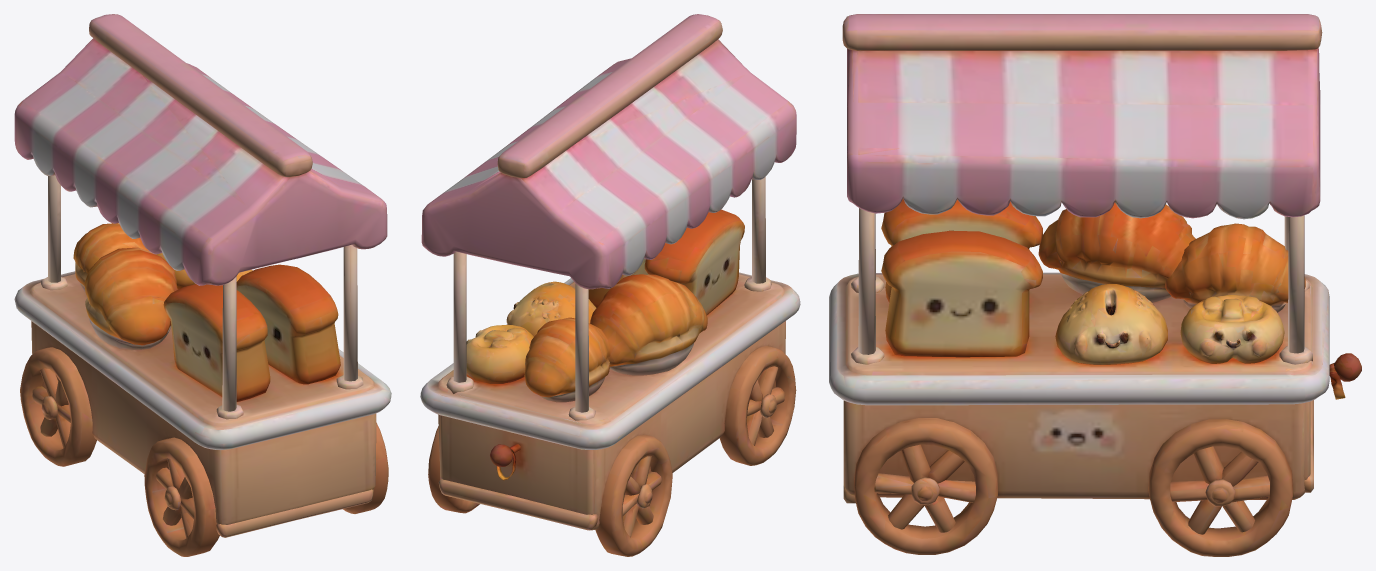
The model's file is bread-cart.glb.
3 renders of one model, left to right at view 1: azimuth 30°, elevation 25°; view 2: azimuth 150°, elevation 25°; view 3: azimuth 270°, elevation 25°, orthographic. The views are drawn at different scales.
Parts seen in each view (by area): view 1: tripo_node_7a8bc3ec-9e38-4f8a-97b4-cdf4be0d2fa7; view 2: tripo_node_7a8bc3ec-9e38-4f8a-97b4-cdf4be0d2fa7; view 3: tripo_node_7a8bc3ec-9e38-4f8a-97b4-cdf4be0d2fa7.
Part boxes in pixels (x1,y1,x2,y2): tripo_node_7a8bc3ec-9e38-4f8a-97b4-cdf4be0d2fa7: (14,14,391,556); tripo_node_7a8bc3ec-9e38-4f8a-97b4-cdf4be0d2fa7: (420,14,800,556); tripo_node_7a8bc3ec-9e38-4f8a-97b4-cdf4be0d2fa7: (829,14,1361,556).
Bounding box in the file's own units: 0.5215 × 0.998 × 0.998.
Materials: 1 (1 with a texture image).
